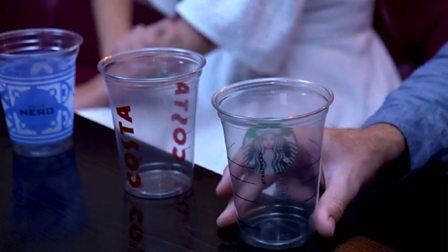plastic_glass: (209, 75, 338, 251), (95, 47, 209, 204), (1, 25, 87, 164)
